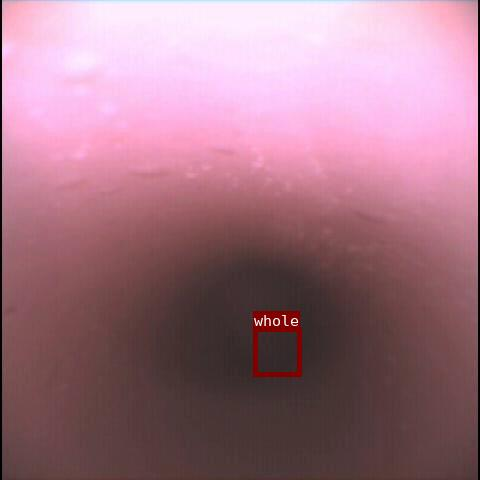whole: (253, 327, 301, 376)
